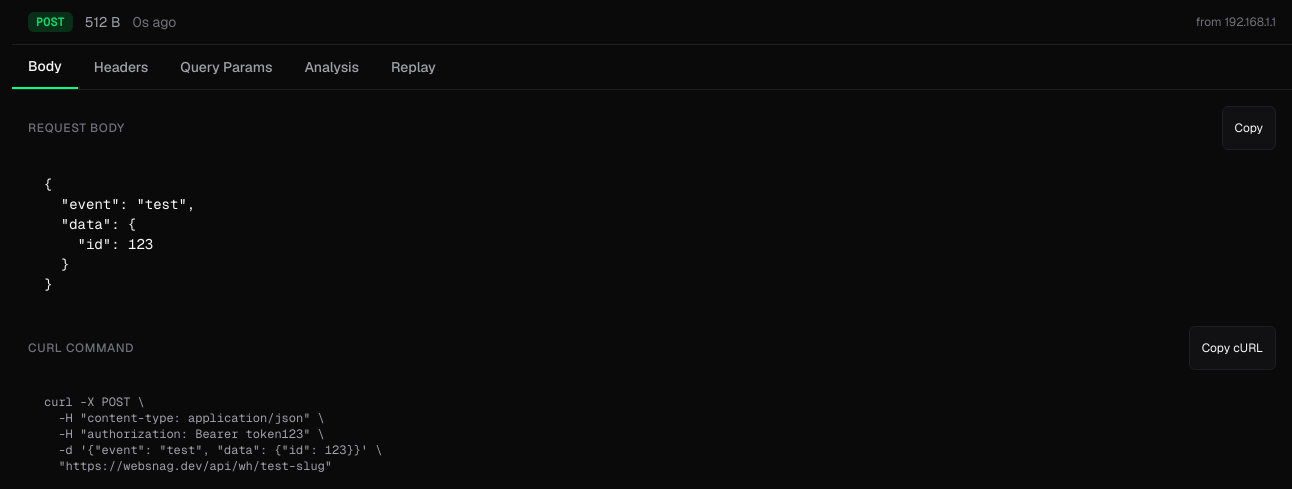
RequestDetail › shows empty state for query params when none exist
Click the tab "Query Params" at (226,67), box [164,45,288,89]
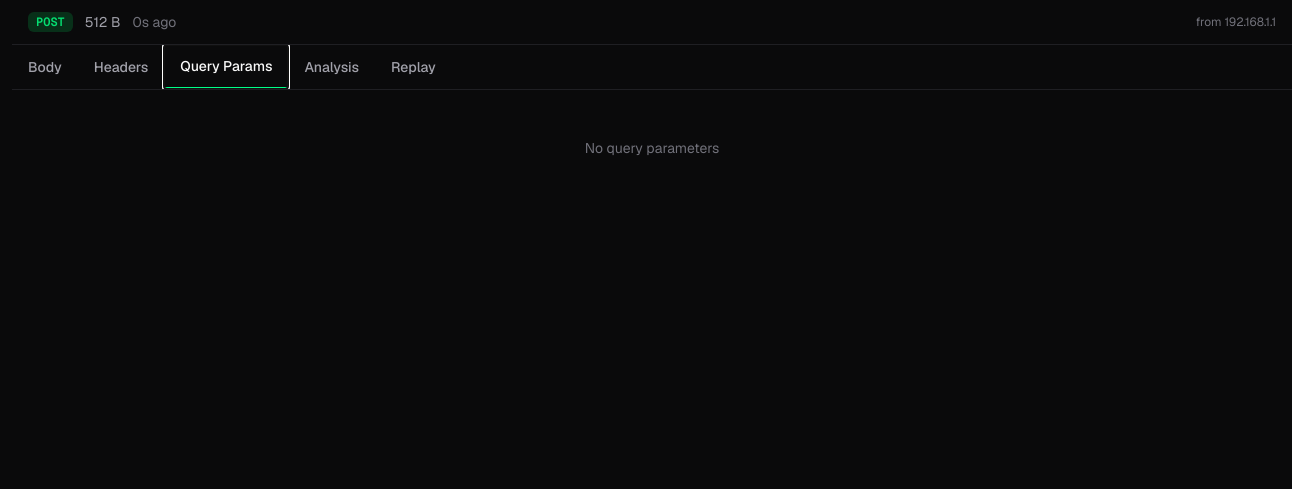
Expected: the text "No query parameters" is shown, [585,139,719,157]
